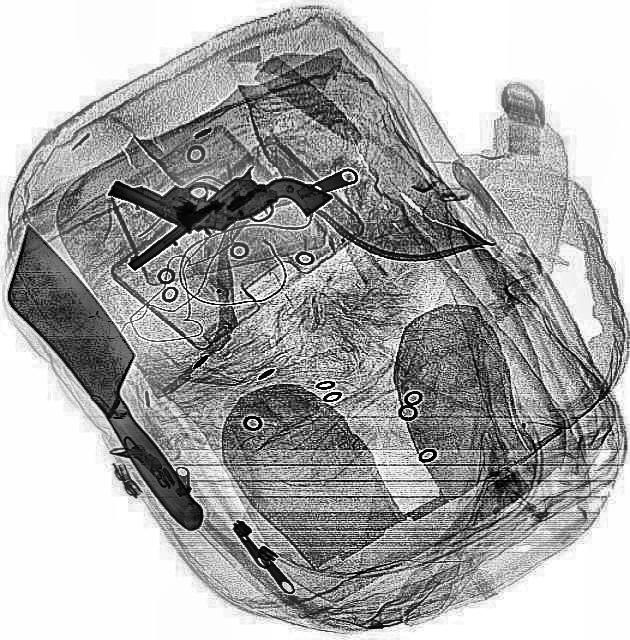Gun: (120, 139, 332, 313), (103, 110, 281, 274)
Knife: (0, 256, 244, 527)
